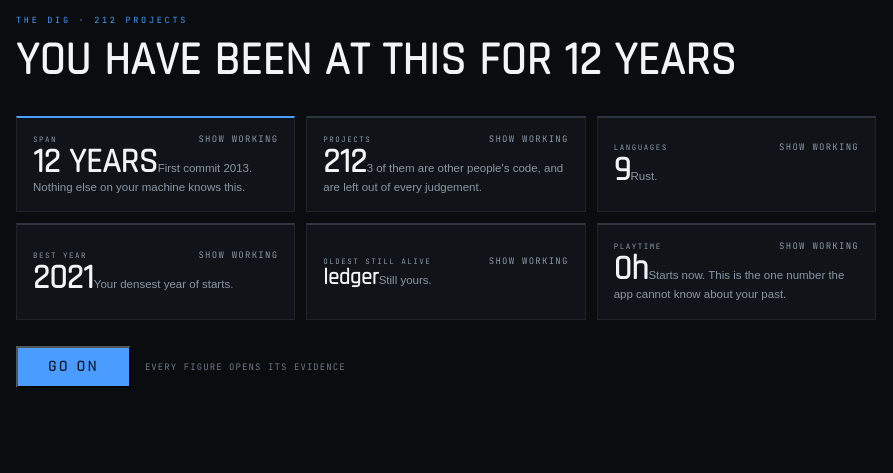
Test: SHOW WORKING opens the evidence, flips to CLOSE and closes again
Expected: the 1st text "SHOW WORKING" is shown, [198,133,278,145]
Click the button with test id "fr-panel" that starts with "SPAN". click: (156,164)
box: [16,116,295,212]
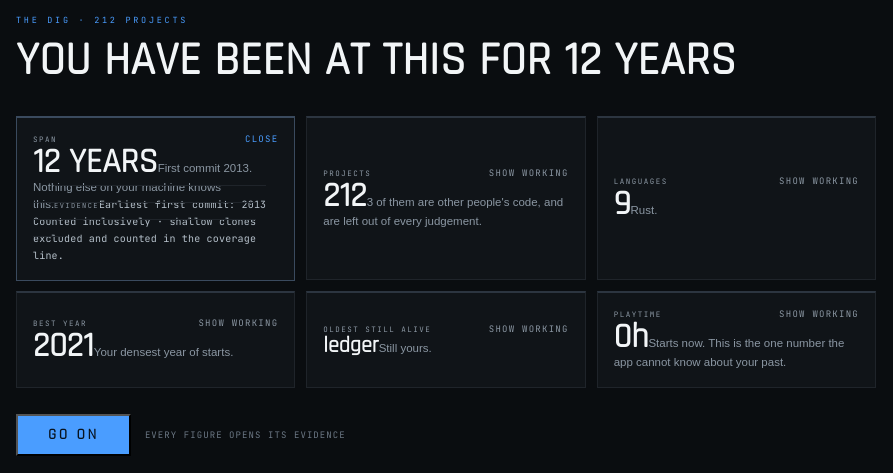
Result: the button with test id "fr-panel" is expanded
Result: the text "CLOSE" is shown at [245,133,278,145]
Result: the text "EVIDENCE" is shown at [54,200,99,209]
Click the button with test id "fr-panel" that starts with "SPAN". click: (156,198)
box: [16,116,295,280]
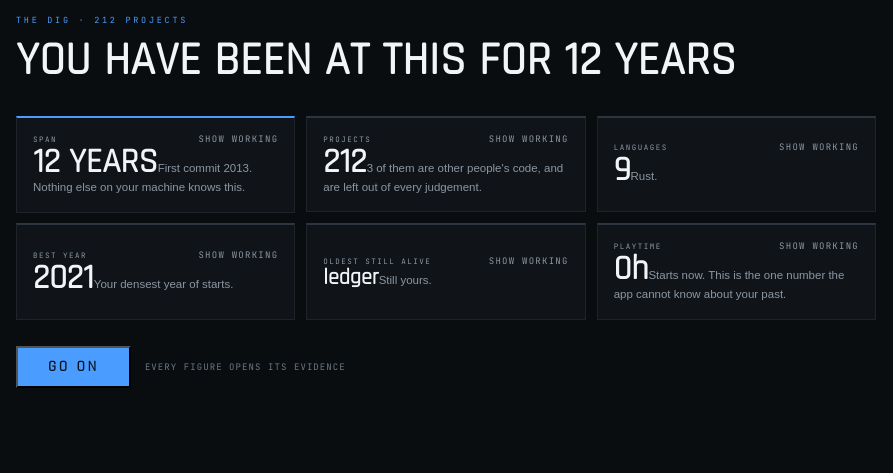
Result: the button with test id "fr-panel" is collapsed at [16,116,295,212]
